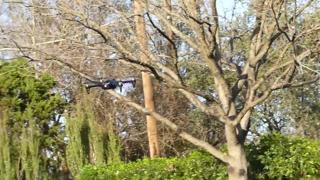UAV: (86, 77, 136, 94)
